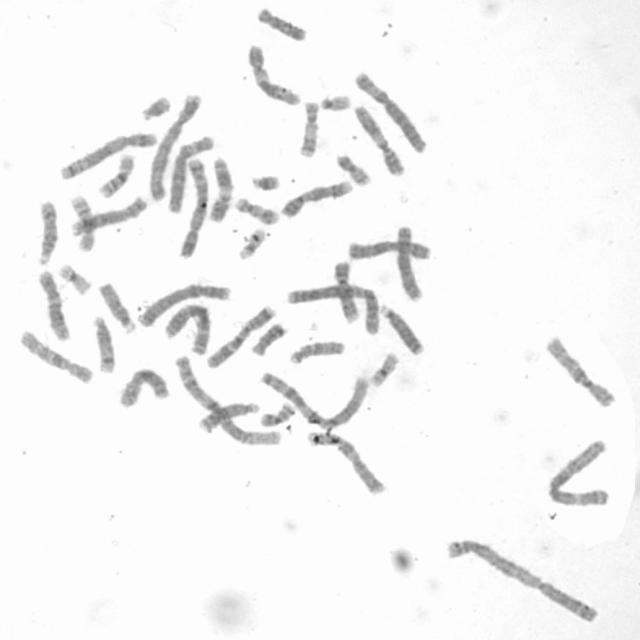A1: (170, 351, 284, 448), (256, 367, 373, 430)
A2: (441, 533, 603, 625), (283, 279, 384, 335)
A3: (544, 435, 613, 508), (159, 299, 213, 356)
B4: (145, 89, 204, 203), (136, 280, 234, 328)
B5: (56, 128, 158, 181), (176, 153, 212, 260)
C10: (541, 331, 619, 409), (15, 325, 97, 385)
C11: (350, 100, 407, 178), (205, 153, 234, 224)
C12: (242, 39, 303, 107), (33, 266, 72, 342)
C6: (351, 66, 429, 154), (163, 130, 218, 214)
C7: (302, 427, 388, 496), (203, 301, 278, 369)
C8: (68, 191, 149, 236), (392, 220, 426, 302)
C9: (279, 176, 355, 220), (330, 256, 361, 324)
D13: (376, 300, 426, 356), (194, 398, 261, 434)
D14: (32, 195, 60, 268), (89, 312, 118, 374)
D15: (95, 278, 138, 335), (286, 336, 348, 365)
E16: (94, 149, 138, 199), (66, 190, 97, 253)
E17: (296, 96, 321, 160), (232, 192, 280, 225)
E18: (252, 2, 309, 43), (248, 318, 290, 357)
F19: (54, 260, 94, 296), (365, 348, 401, 388)
F20: (332, 149, 373, 187), (256, 398, 299, 428)
G21: (137, 91, 173, 122), (247, 169, 283, 192)
G22: (234, 224, 268, 262), (316, 89, 354, 112)
X: (114, 362, 171, 410), (342, 235, 433, 262)
